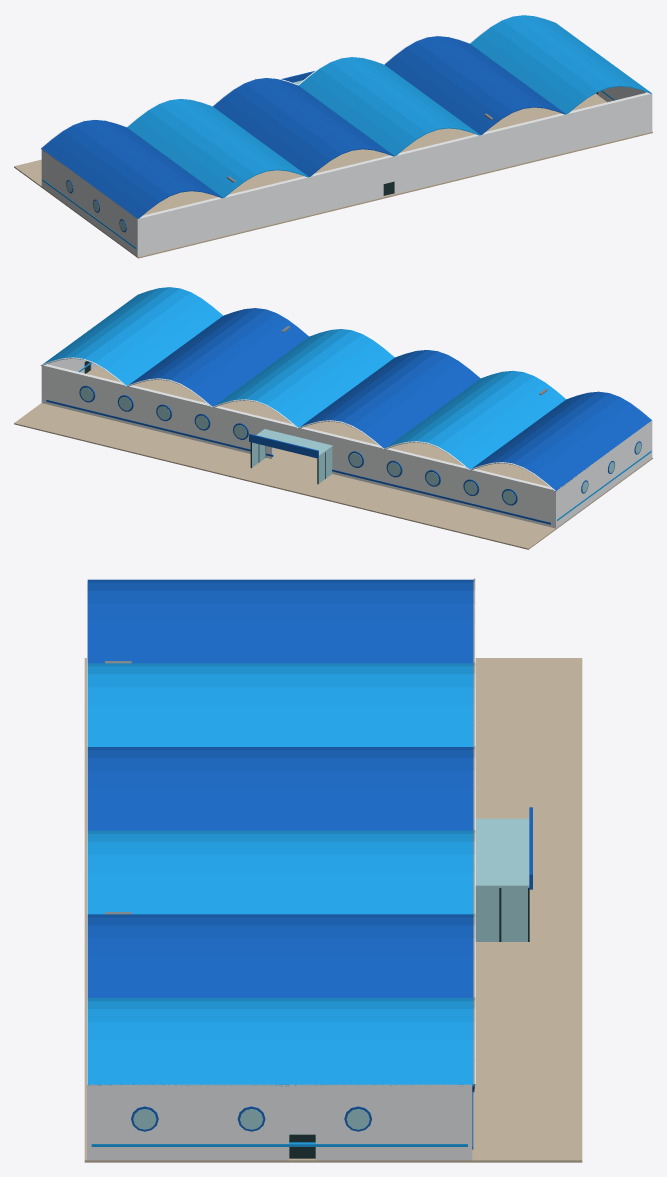
File: aquarium_building.fbx
3 renders of one model, top to bottom at view 1: azimuth 30°, elevation 25°; view 2: azimuth 150°, elevation 25°; view 3: azimuth 270°, elevation 25°, orthographic. The views are drawn at different scales.
Parts seen in each view (by area): view 1: aquarium_building; view 2: aquarium_building; view 3: aquarium_building.
Part boxes in pixels (<box>): aquarium_building: <box>14,14,652,258</box>; aquarium_building: <box>14,287,652,549</box>; aquarium_building: <box>84,578,582,1162</box>.
Bounding box in the file's own units: 134 × 14 × 56.
